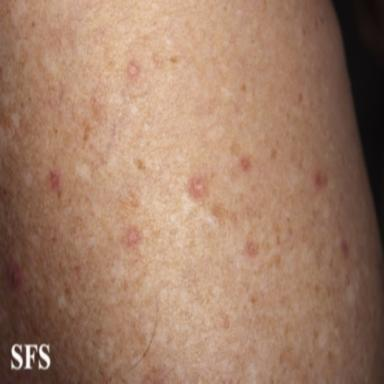Porokeratosis: (7, 259, 23, 291), (188, 178, 205, 198), (126, 227, 142, 247), (314, 171, 327, 190), (127, 61, 140, 79), (49, 171, 59, 191), (341, 239, 349, 258), (241, 158, 251, 171)
